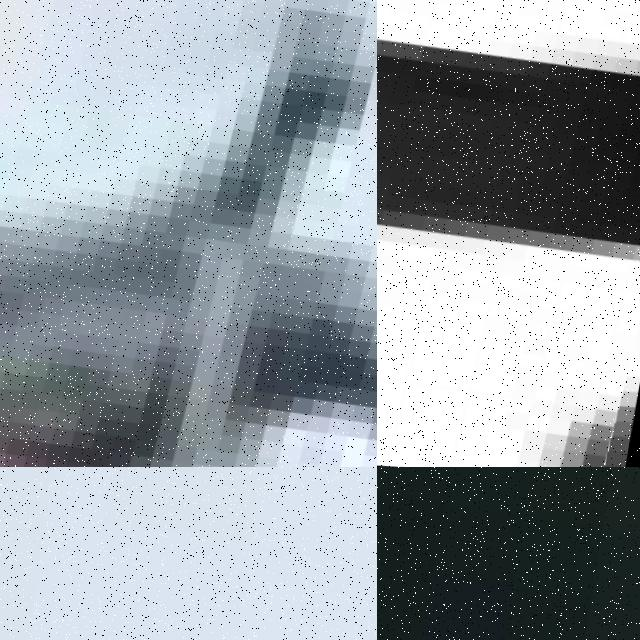drone: (0, 0, 377, 467), (377, 0, 640, 467)
